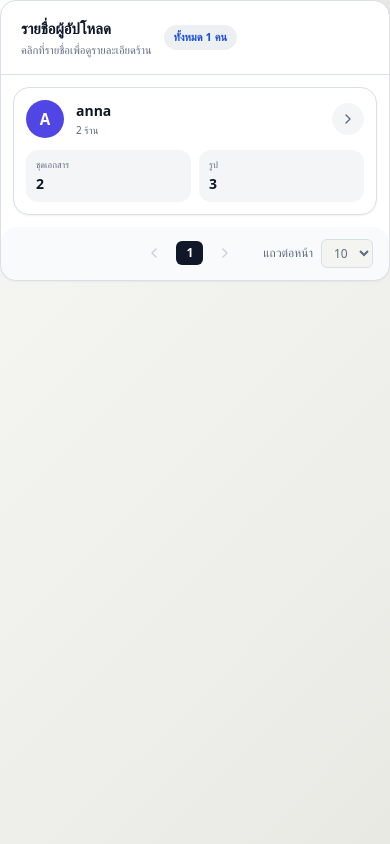
Test: KpiUploadTable › lists uploaders and reveals their shops on click
Check: the text "ทั้งหมด 1 คน" is shown, box [164,25,237,50]
Check: the text "ร้าน A" is not shown
Click the text "anna": (94, 110) [76,100,111,120]
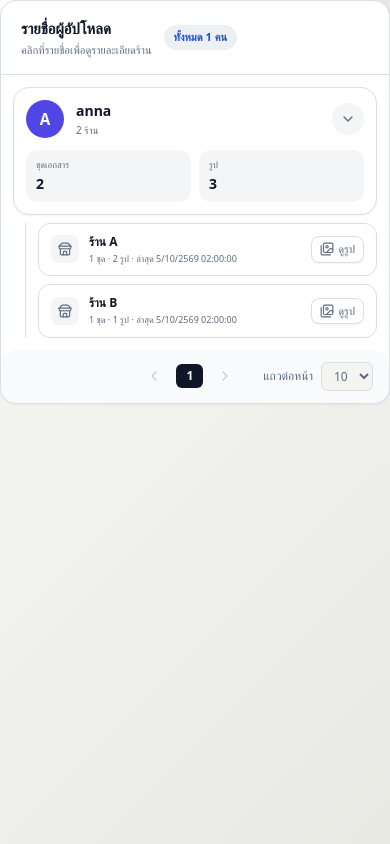
Check: the text "ร้าน A" is shown, box [89,232,118,250]
Check: the text "ร้าน B" is shown, box [89,294,117,311]
